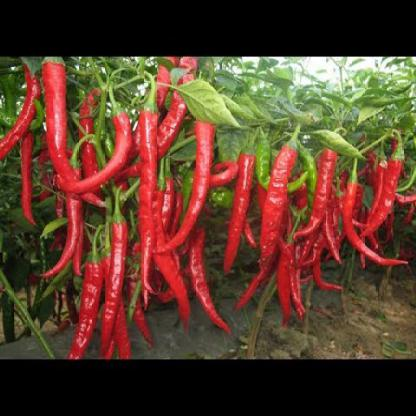chili: (340, 173, 409, 276), (169, 117, 216, 243), (218, 145, 256, 281), (260, 141, 296, 270), (39, 58, 77, 173), (294, 155, 340, 244), (99, 215, 128, 350), (138, 107, 158, 296), (19, 131, 37, 235)
